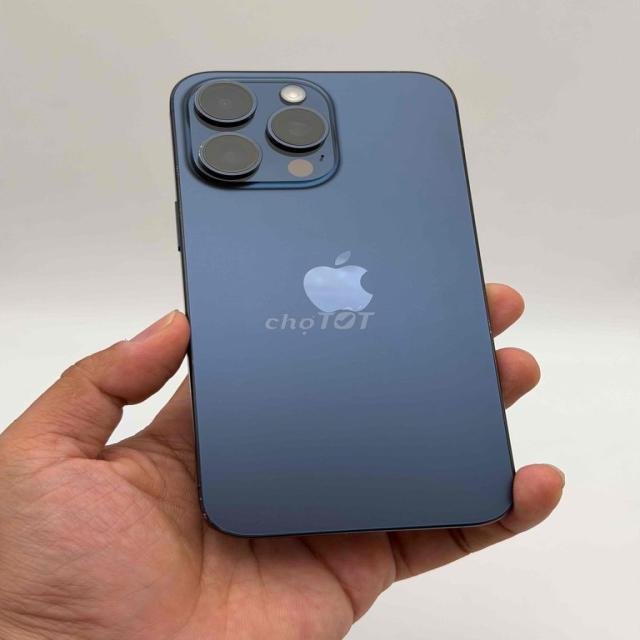gen_15: (155, 63, 535, 549)
